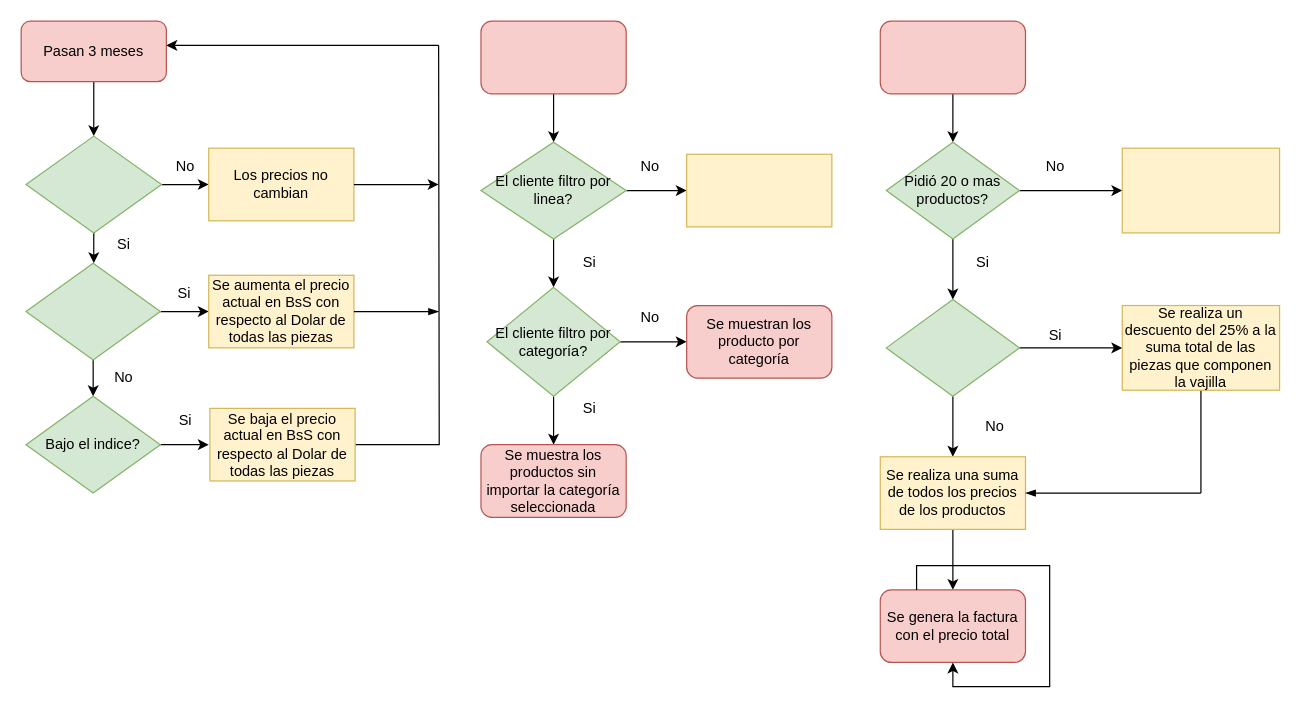
The diagram is 1301 pixels wide and 718 high, and some of its shapes have lost their labels. Each missing label, with the centre of its shape:
"Cambio el indice de inflación?" belongs at pixel 93 184.
"Dentro del pedido hay vajillas?" belongs at pixel 952 347.
"El cliente realiza un pedido" belongs at pixel 952 57.
"Imprimir un mensaje de alerta que le notifique que son mínimo 20 productos" belongs at pixel 1200 190.
"Mostrar catalogo" belongs at pixel 553 57.
"No se muestra ningún producto" belongs at pixel 758 190.
"Subio el indice?" belongs at pixel 92 311.
